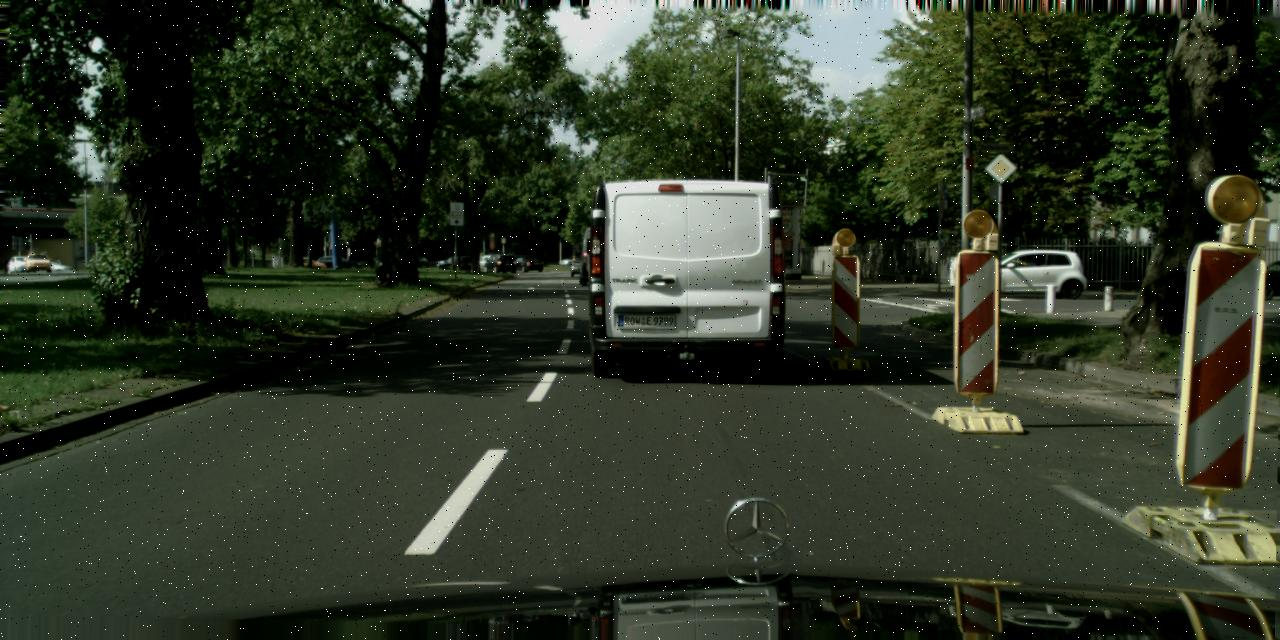ped: (54, 257, 60, 274)
